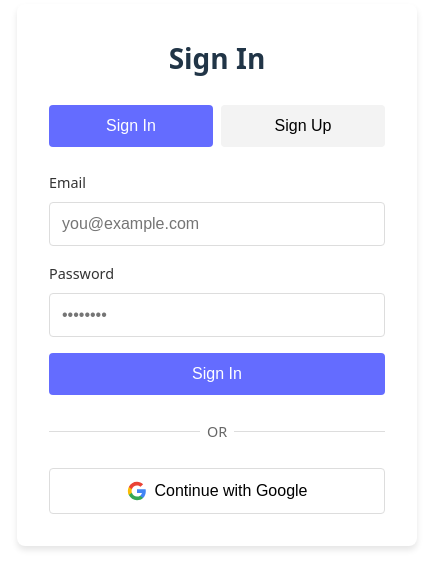
Test case: LoginPage › disables form inputs while loading
Step 1. Type "test@example.com" into the field labelled "Email" → x=217, y=224, box x1=49 y1=202 x2=385 y2=246
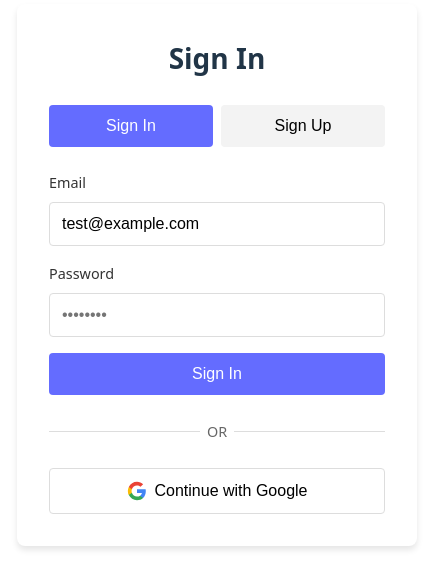
Step 2. Type "password123" into the password field labelled "Password" → x=217, y=315, box x1=49 y1=293 x2=385 y2=337
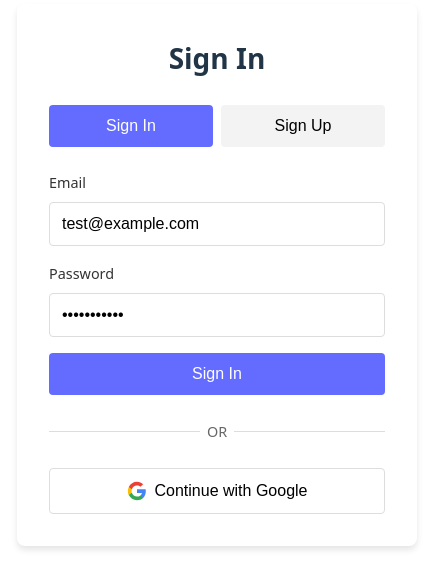
Step 3. Click the button "Sign In" → x=217, y=374, box x1=49 y1=353 x2=385 y2=395
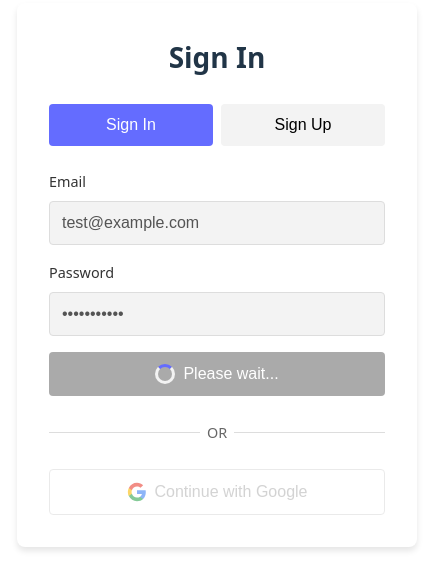
Expected: the field labelled "Email" is disabled, x1=49 y1=201 x2=385 y2=245
Expected: the password field labelled "Password" is disabled, x1=49 y1=292 x2=385 y2=336
Expected: the text "Please wait..." is shown, x1=183 y1=365 x2=279 y2=383
